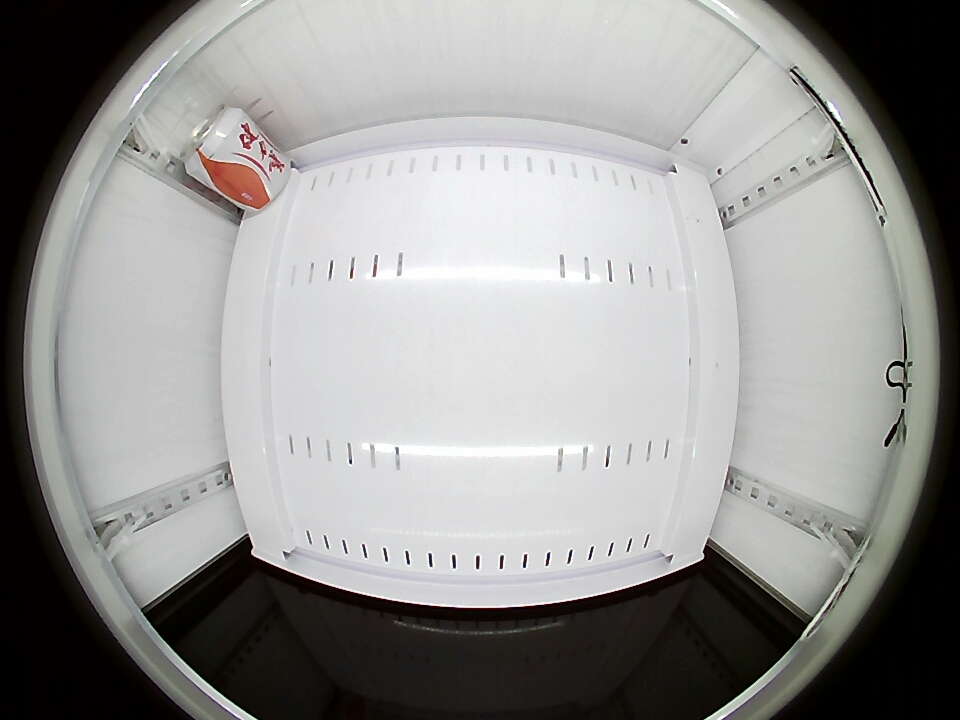jianlibao: (183, 106, 248, 176)
